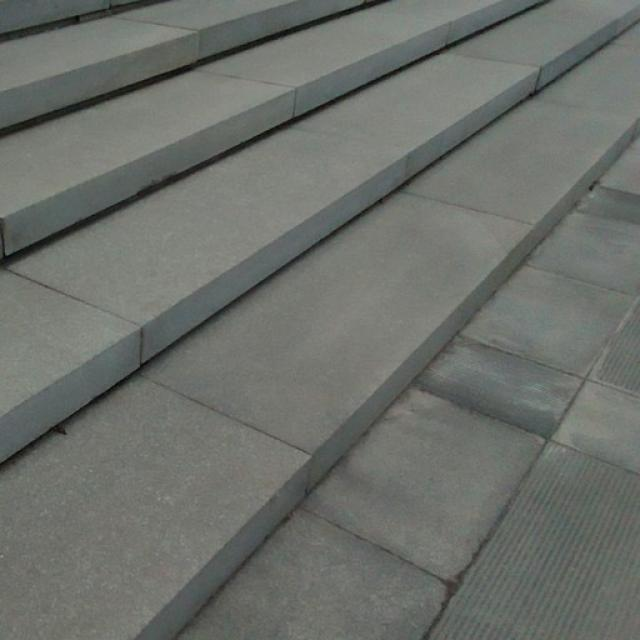stair: (0, 0, 514, 598)
